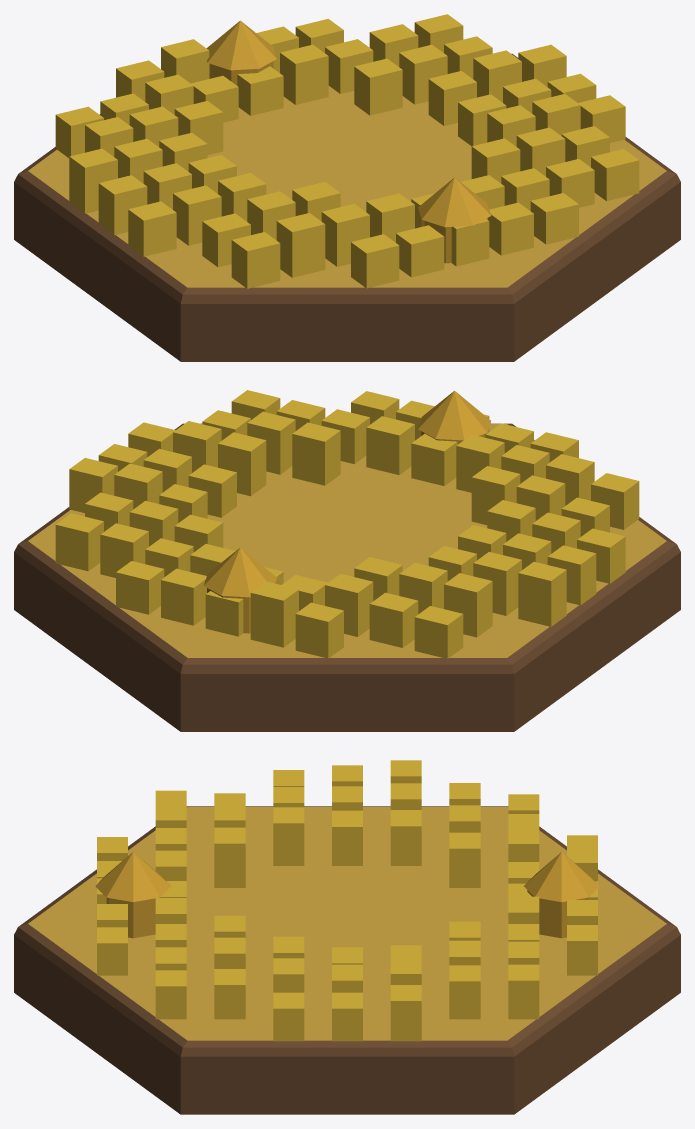
Rendered from tile_fields.glb.
3 renders of one model, top to bottom at view 1: azimuth 30°, elevation 25°; view 2: azimuth 150°, elevation 25°; view 3: azimuth 270°, elevation 25°, orthographic.
Visible parts, largest first — view 1: tile_fields; view 2: tile_fields; view 3: tile_fields.
Boxes of the visible parts, x1,y1,x2,y2 form: tile_fields: (14,14,680,361); tile_fields: (14,390,680,731); tile_fields: (14,760,680,1114).
Size of the model in its own units: 1.67 by 0.45 by 1.93.
